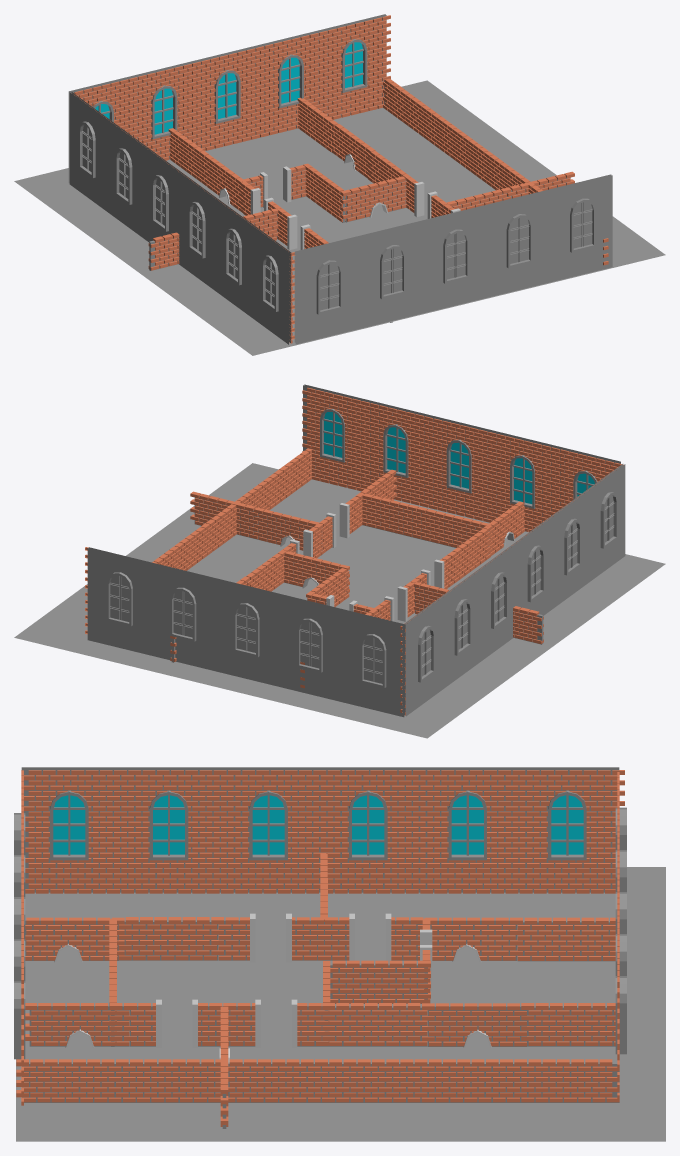
The model's file is Blueprint.fbx.
3 renders of one model, top to bottom at view 1: azimuth 30°, elevation 25°; view 2: azimuth 150°, elevation 25°; view 3: azimuth 270°, elevation 25°, orthographic. The views are drawn at different scales.
Parts seen in each view (by area): view 1: Cube.016; view 2: Cube.016; view 3: Cube.016.
Boxes of the visible parts, left/top/right/bottom form: Cube.016: left=14, top=14, right=665, bottom=355; Cube.016: left=14, top=384, right=665, bottom=738; Cube.016: left=14, top=767, right=665, bottom=1141.
Size of the model in its own units: 4567 by 994 by 4582.
